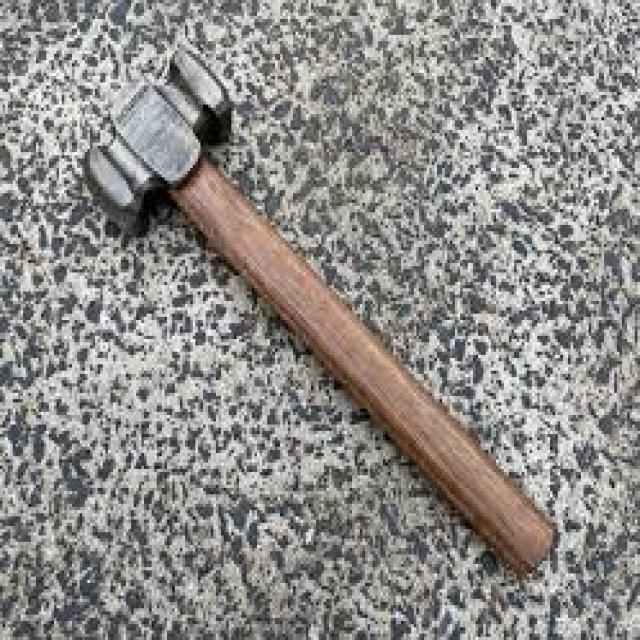hammer: (80, 37, 563, 584)
